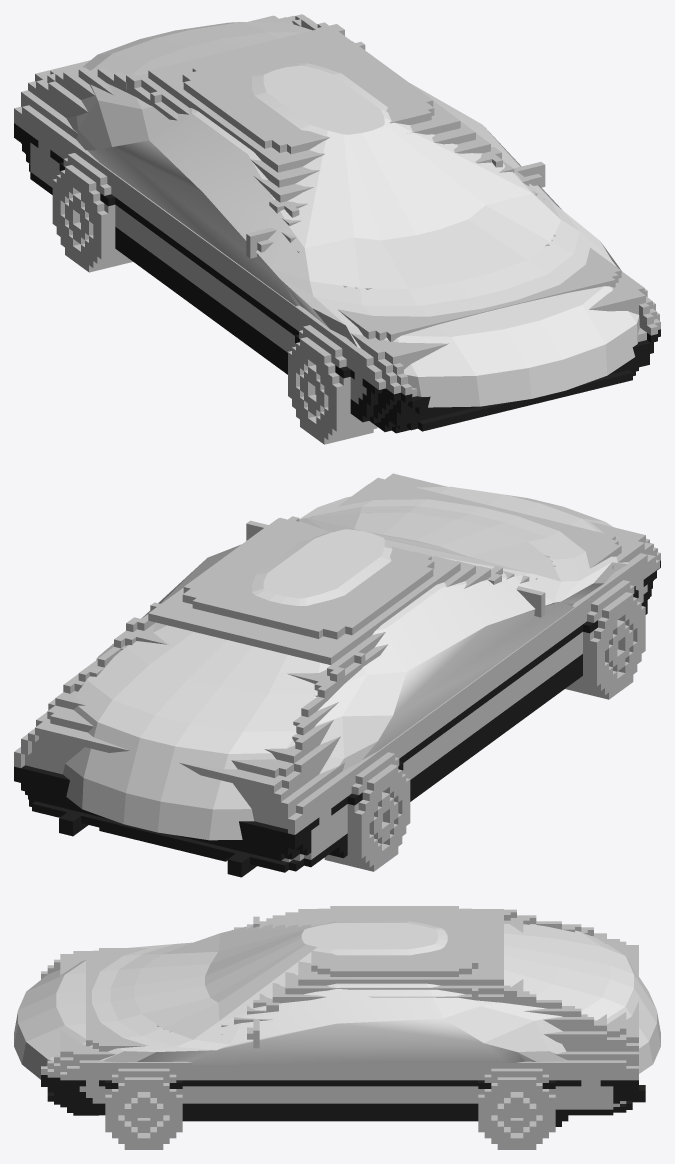
Rendered from DeLoreanModel.fbx.
3 views of the same model, one above another, from view 1: azimuth 30°, elevation 25°; view 2: azimuth 150°, elevation 25°; view 3: azimuth 270°, elevation 25° (orthographic). The views are drawn at different scales.
Parts seen in each view (by area): view 1: Cube.001, Top, Down, RightFrontTire, FrontLightFrame, RightBackWheel, BackWindow, FrontWindow, RightFrontDisk, RightBackWheel.001, RightBackWindow; view 2: Cube.001, Top, Down, BackWindow, RightBackWheel, RightFrontTire, RightBackWheel.001, RightFrontDisk, FrontLightFrame, RightBackWindow; view 3: Cube.001, Top, Down, LeftBackTire, LeftFrontTire, BackWindow, LeftBackDisk, LeftFrontDisk, FrontLightFrame, LeftBackWindow, ObjObject, FrontWindow.
Boxes of the visible parts, left/top/right/bottom form: Cube.001: left=66, top=22, right=639, bottom=407; Top: left=14, top=14, right=647, bottom=404; Down: left=14, top=123, right=660, bottom=433; RightFrontTire: left=288, top=337, right=377, bottom=444; FrontLightFrame: left=366, top=285, right=660, bottom=397; RightBackWheel: left=52, top=165, right=132, bottom=272; BackWindow: left=62, top=17, right=336, bottom=80; FrontWindow: left=288, top=121, right=507, bottom=222; RightFrontDisk: left=296, top=356, right=328, bottom=426; RightBackWheel.001: left=60, top=184, right=93, bottom=254; RightBackWindow: left=72, top=79, right=163, bottom=114; Cube.001: left=63, top=486, right=628, bottom=840; Top: left=14, top=480, right=647, bottom=862; Down: left=14, top=560, right=660, bottom=877; BackWindow: left=59, top=603, right=339, bottom=764; RightBackWheel: left=324, top=764, right=410, bottom=871; RightFrontTire: left=565, top=592, right=645, bottom=699; RightBackWheel.001: left=369, top=784, right=402, bottom=853; RightFrontDisk: left=605, top=612, right=637, bottom=681; FrontLightFrame: left=374, top=473, right=660, bottom=576; RightBackWindow: left=312, top=653, right=361, bottom=754; Cube.001: left=14, top=921, right=660, bottom=1079; Top: left=79, top=906, right=638, bottom=1109; Down: left=41, top=1075, right=645, bottom=1126; LeftBackTire: left=478, top=1077, right=555, bottom=1149; LeftFrontTire: left=105, top=1077, right=182, bottom=1149; BackWindow: left=478, top=912, right=613, bottom=1028; LeftBackDisk: left=491, top=1091, right=542, bottom=1138; LeftFrontDisk: left=118, top=1091, right=169, bottom=1138; FrontLightFrame: left=41, top=951, right=79, bottom=1080; LeftBackWindow: left=478, top=985, right=568, bottom=1039; ObjObject: left=259, top=985, right=439, bottom=1020; FrontWindow: left=247, top=914, right=304, bottom=1008.
Size of the model in its own units: 440 by 263 by 1006.
